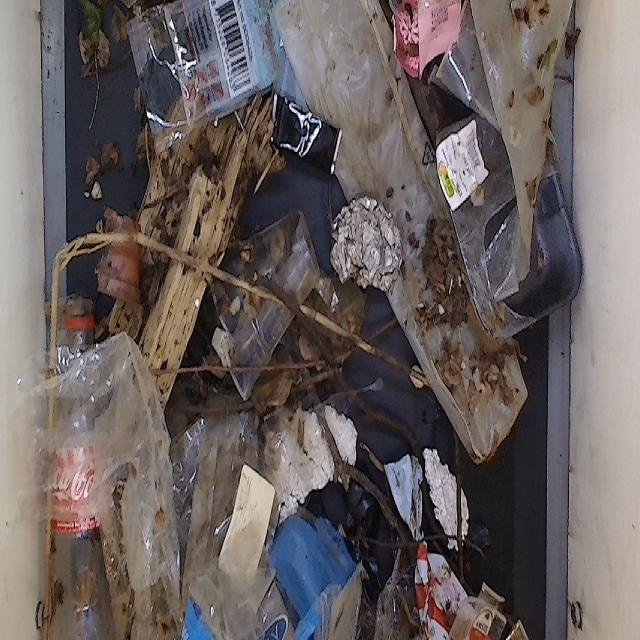food_wrapping: (436, 116, 595, 310), (375, 0, 470, 76), (325, 203, 404, 290), (405, 530, 467, 640)
pet_bottles: (38, 278, 112, 640)
plastic_cups: (466, 566, 529, 640)
plastic_films: (15, 354, 190, 640), (138, 382, 294, 640), (457, 0, 568, 280), (129, 0, 301, 127), (193, 221, 309, 391), (320, 562, 419, 640)
styrofoam: (254, 376, 354, 514), (413, 436, 472, 570)
